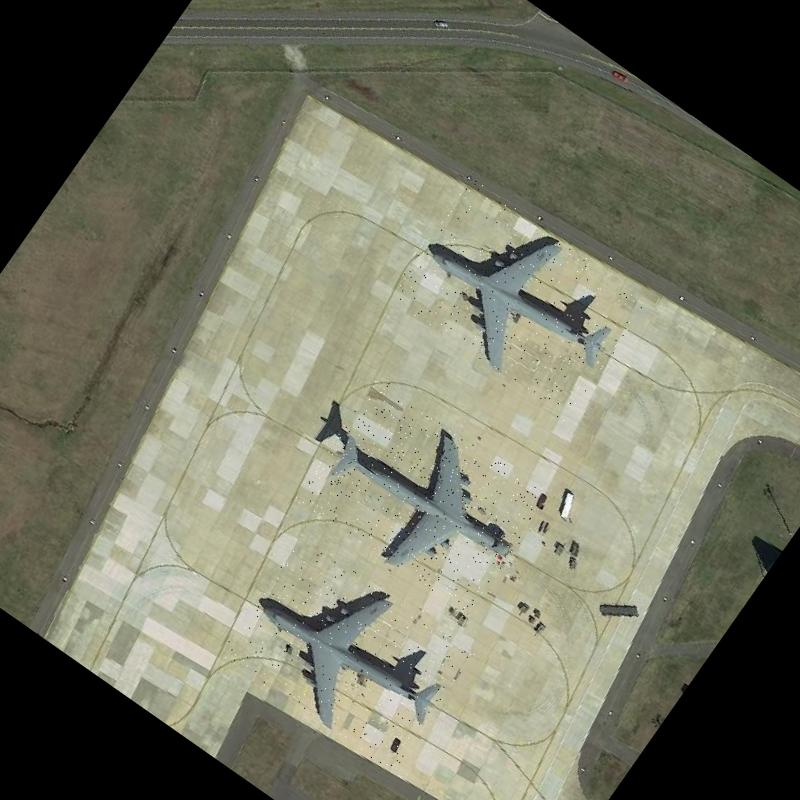A4: (387, 178, 649, 422), (217, 533, 476, 776), (293, 376, 552, 618)
